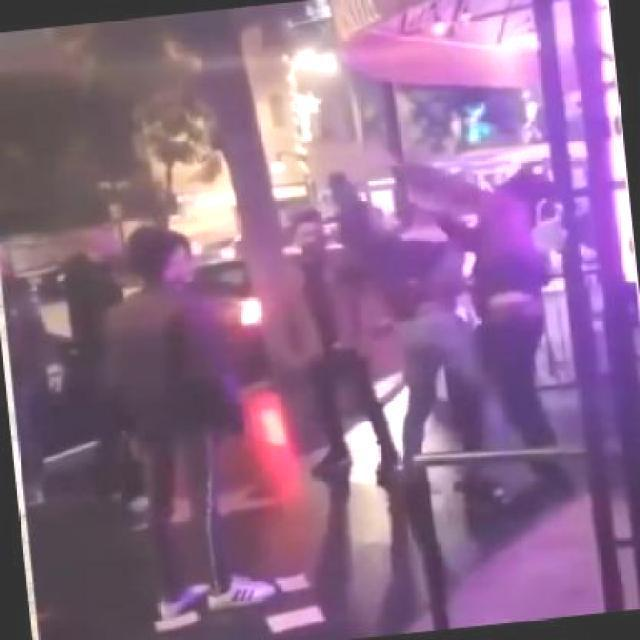fight: (374, 140, 600, 518)
